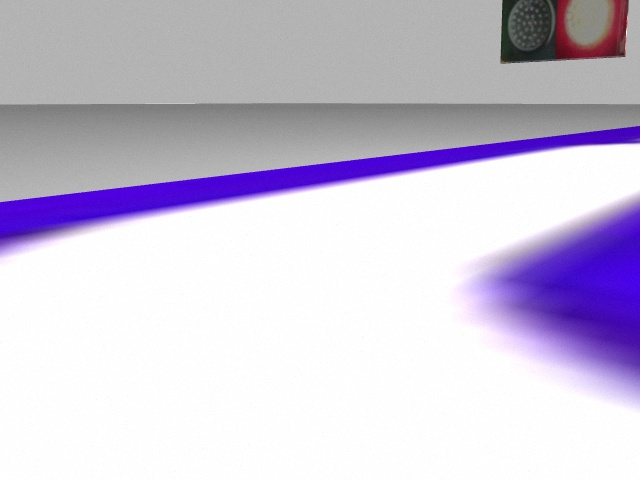red: (557, 1, 622, 56)
